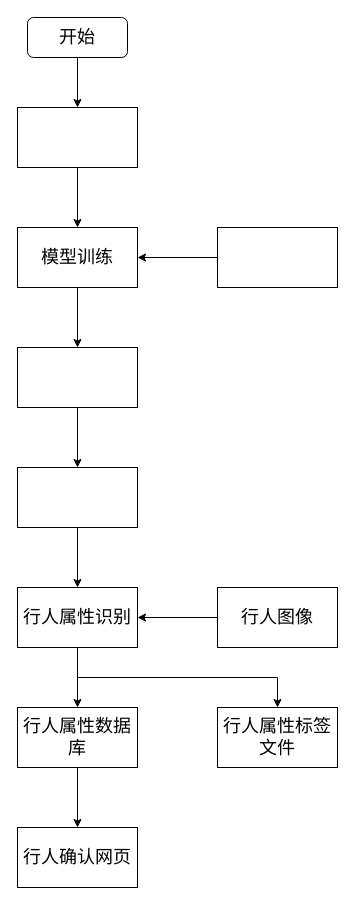
Image size: 355x905. Some labels were removed from this diagram. The centre of each missing label's shape, as x and y in pixels:
"PETA数据集" belongs at (77,137).
"行人属性识别模型" belongs at (277,257).
"输出多个检查点" belongs at (77,377).
"选择最优的模型" belongs at (77,497).
